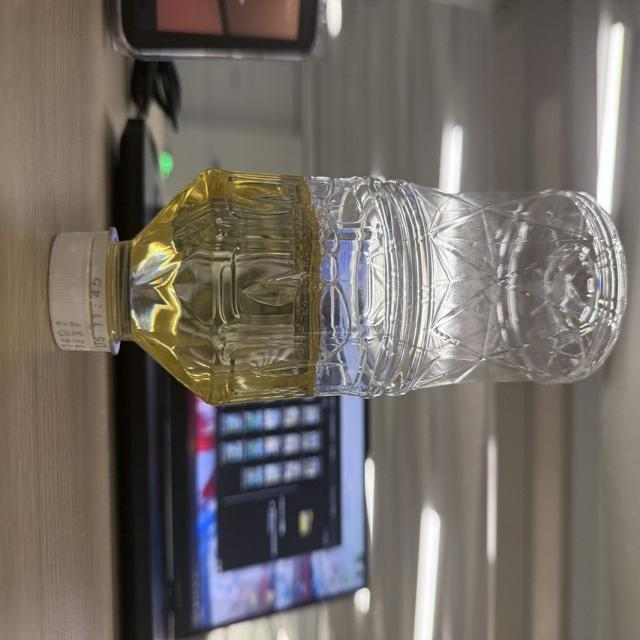low: (50, 169, 626, 404)
